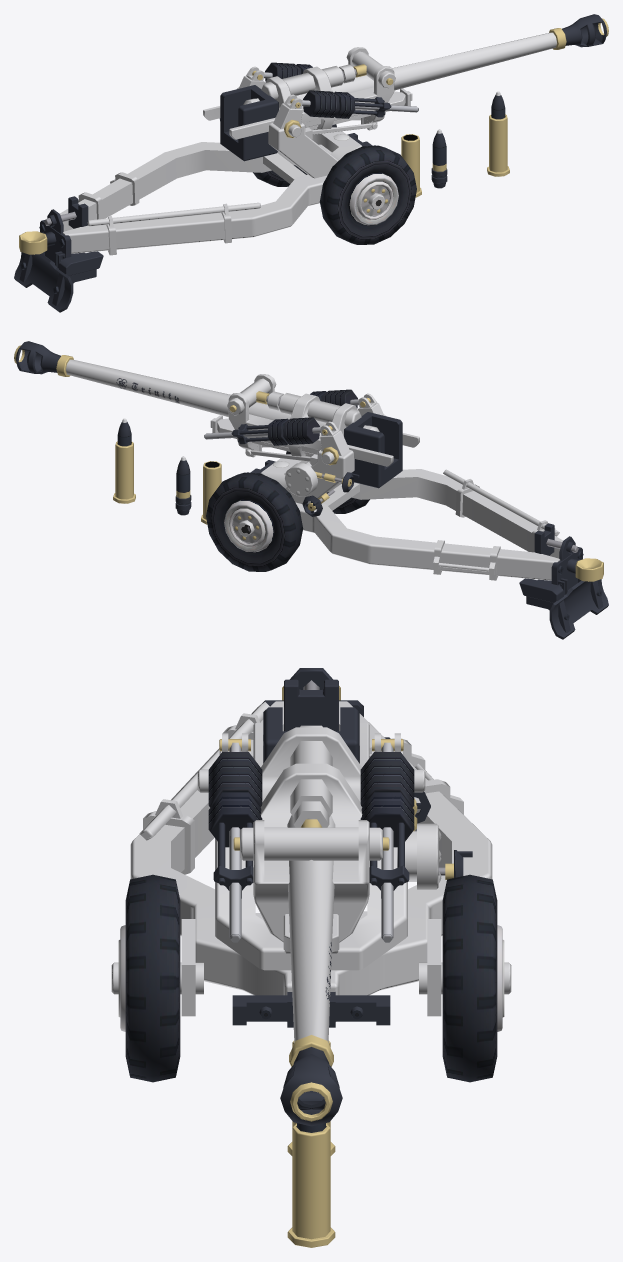
3 views of the same model, one above another, from view 1: azimuth 30°, elevation 25°; view 2: azimuth 150°, elevation 25°; view 3: azimuth 270°, elevation 25° (orthographic). The views are drawn at different scales.
Parts seen in each view (by area): view 1: howitzer_0; view 2: howitzer_0; view 3: howitzer_0.
Part boxes in pixels (x1,y1,x2,y2): howitzer_0: [14, 14, 608, 312]; howitzer_0: [14, 341, 608, 639]; howitzer_0: [111, 668, 511, 1247].
Bounding box in the file's own units: 33.25 × 8.6 × 9.85.
Materials: 1 (1 with a texture image).
